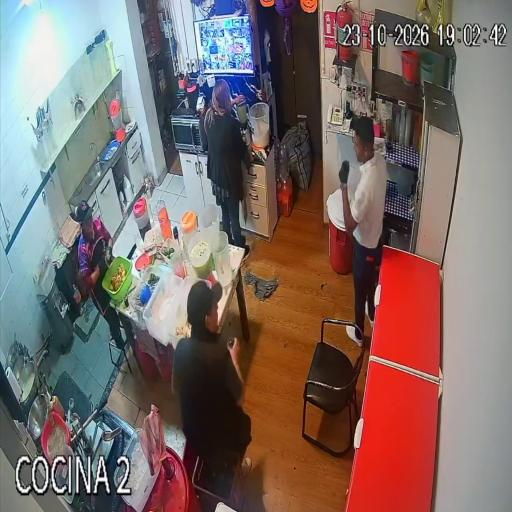Balde: (249, 102, 270, 148)
Envase Llajua: (52, 395, 64, 419)
Jarra1: (133, 197, 150, 238)
Jarra2: (181, 210, 197, 239)
Jarra3: (198, 204, 220, 248)
Jarra4: (190, 233, 211, 279)
Jarra5: (212, 231, 232, 286)
Licuadora2: (236, 100, 250, 142)
Microondas: (170, 109, 207, 152)
Persona1: (173, 282, 251, 459)
Persona2: (203, 80, 247, 247)
Persona3: (339, 118, 388, 347)
Persona5: (75, 201, 125, 349)
Taper: (102, 256, 132, 304)
Taper2: (128, 265, 165, 321)
Taper3: (143, 269, 183, 346), (220, 285, 235, 317), (230, 249, 241, 273)
Taper4: (168, 276, 212, 348)
Taper5: (115, 429, 158, 512)
